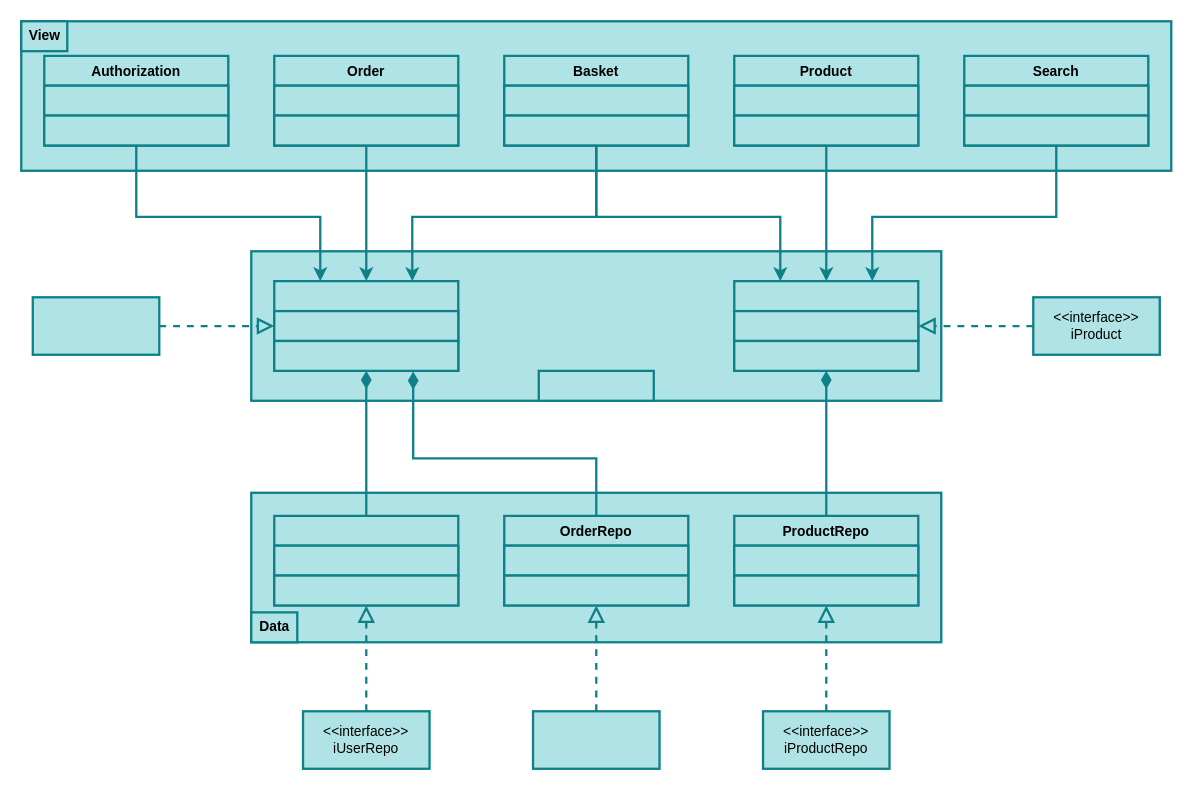
Some shapes in this 1191 by 789 pixel diagram are drawn without their labels. Each missing label, with the box of its shape:
<<interface>> iOrderRepo: (531, 710, 660, 769)
<<interface>> User: (31, 296, 160, 355)
BusinessLogic: (537, 369, 654, 401)
ProductService: (733, 279, 919, 371)
UserRepo: (273, 514, 459, 606)
UserService: (273, 279, 459, 371)
